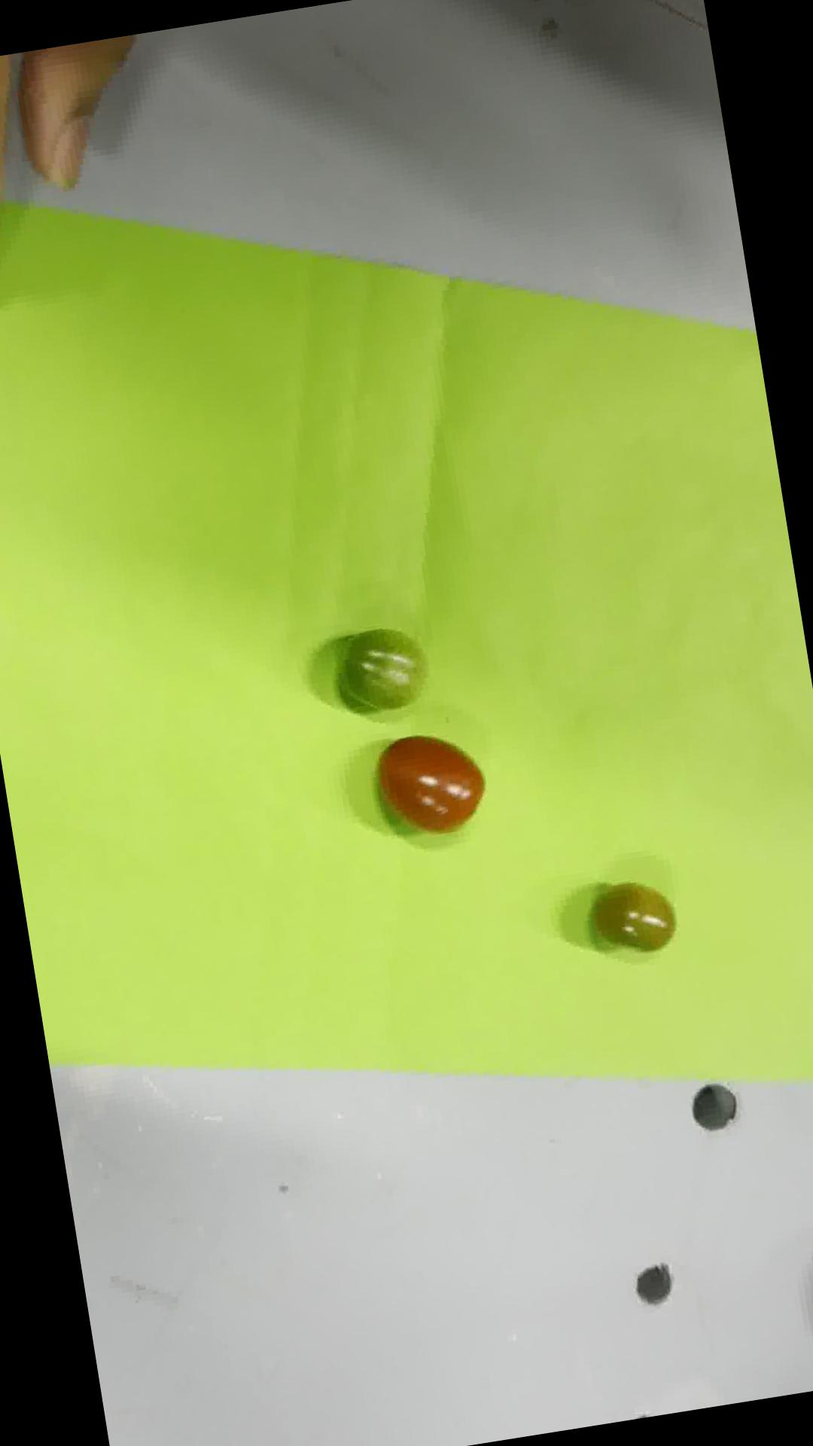green_cherry_tomato: (341, 628, 425, 710)
red_cherry_tomato: (378, 735, 484, 832)
yellow_cherry_tomato: (594, 882, 675, 950)
